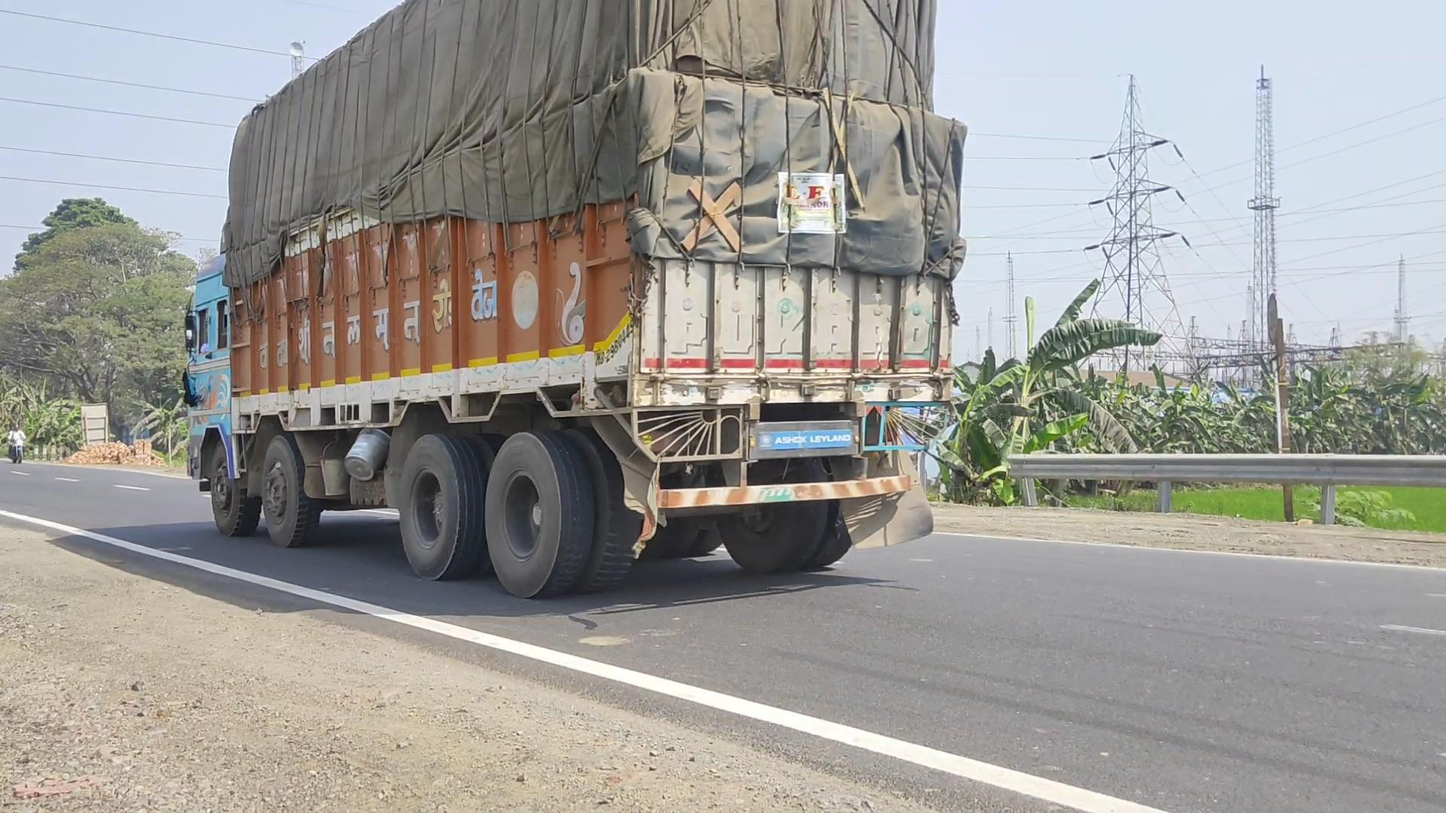bike: (7, 423, 26, 464)
truck: (181, 1, 963, 598)
